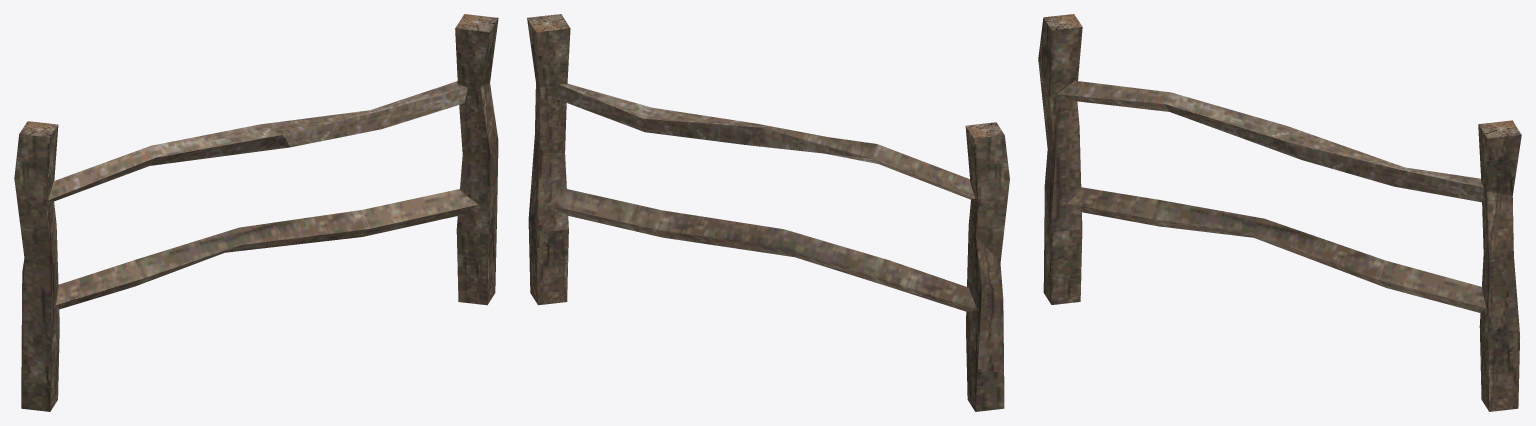
Rendered from Urban_WoodenFenceClosed_Model.fbx.
3 views of the same model, side by side, from view 1: azimuth 30°, elevation 25°; view 2: azimuth 150°, elevation 25°; view 3: azimuth 330°, elevation 25° (orthographic).
Visible parts, largest first — view 1: Urban_WoodenFenceClosed_Mesh; view 2: Urban_WoodenFenceClosed_Mesh; view 3: Urban_WoodenFenceClosed_Mesh.
Boxes of the visible parts, x1=… form: Urban_WoodenFenceClosed_Mesh: x1=14, y1=14, x2=498, y2=411; Urban_WoodenFenceClosed_Mesh: x1=527, y1=14, x2=1009, y2=411; Urban_WoodenFenceClosed_Mesh: x1=1038, y1=14, x2=1521, y2=411.
Size of the model in its own units: 2.21 by 1.2 by 0.1991.
